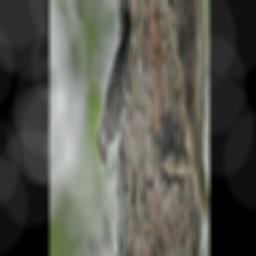Woodpecker: (97, 0, 132, 186)
